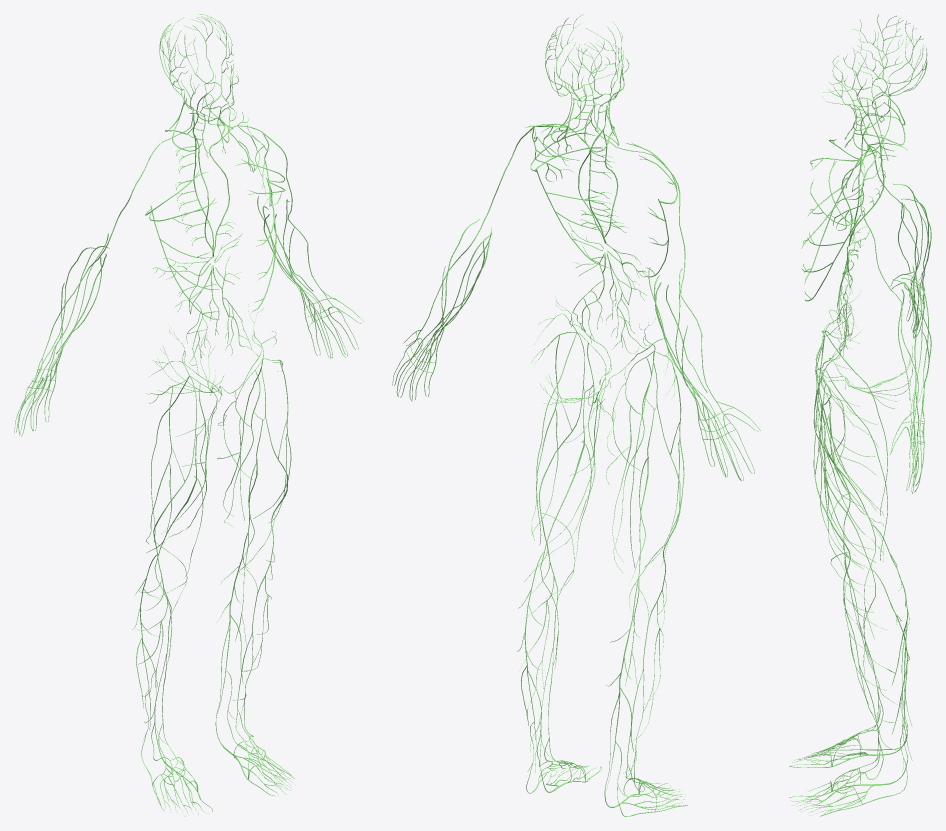
File: G_Male_Lymphatic_1.fbx
3 views of the same model, side by side, from view 1: azimuth 30°, elevation 25°; view 2: azimuth 150°, elevation 25°; view 3: azimuth 270°, elevation 25° (orthographic). The views are drawn at different scales.
Visible parts, largest first — view 1: G_Male_Lymphatic_1; view 2: G_Male_Lymphatic_1; view 3: G_Male_Lymphatic_1.
Part boxes in pixels (box(x1,y1,x2,y2)): G_Male_Lymphatic_1: box(14, 14, 363, 816); G_Male_Lymphatic_1: box(392, 14, 760, 816); G_Male_Lymphatic_1: box(789, 14, 931, 816).
Bounding box in the file's own units: 86.44 × 181 × 30.48.
